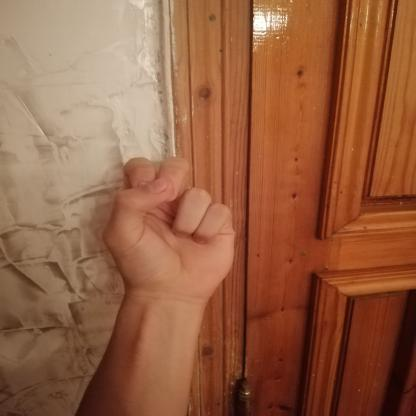QAAF: (83, 141, 261, 309)
